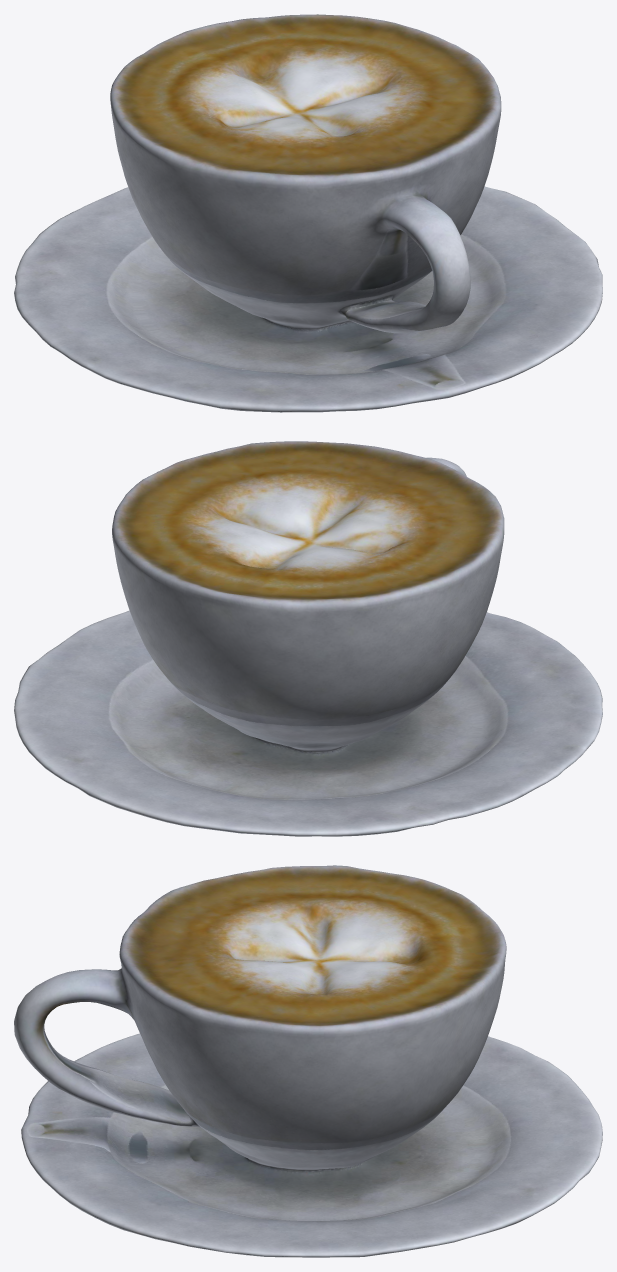
The model's file is latte.glb.
The picture shows the model from 3 angles, top to bottom: view 1: azimuth 30°, elevation 25°; view 2: azimuth 150°, elevation 25°; view 3: azimuth 270°, elevation 25°; orthographic projection.
Visible parts, largest first — view 1: mesh; view 2: mesh; view 3: mesh.
Boxes of the visible parts, left/top/right/bottom form: mesh: left=14, top=14, right=602, bottom=412; mesh: left=14, top=441, right=602, bottom=836; mesh: left=14, top=865, right=602, bottom=1257.
Bounding box in the file's own units: 0.9789 × 0.4125 × 0.9969.
1 material, 1 textured.
